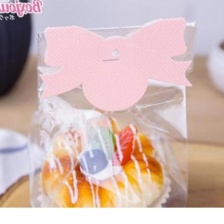snack: (23, 11, 204, 208)
